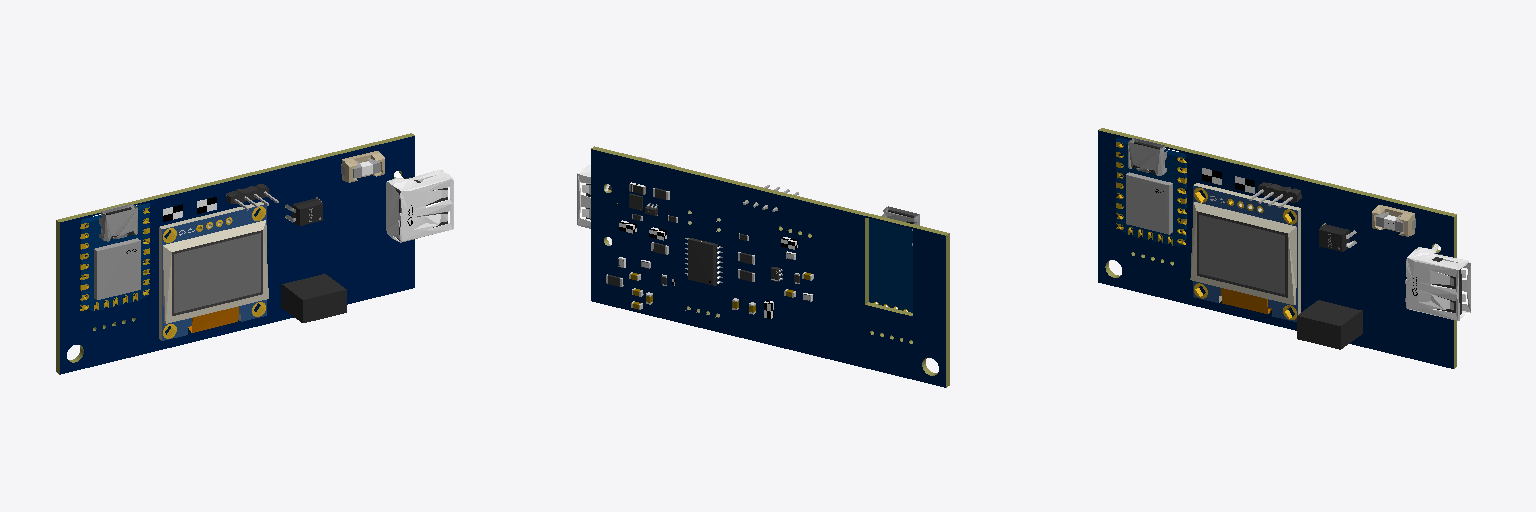
Rendered from cerberus.obj.
3 renders of one model, left to right at view 1: azimuth 30°, elevation 25°; view 2: azimuth 150°, elevation 25°; view 3: azimuth 330°, elevation 25°, orthographic.
Size of the model in its own units: 98.24 by 38.72 by 13.51.